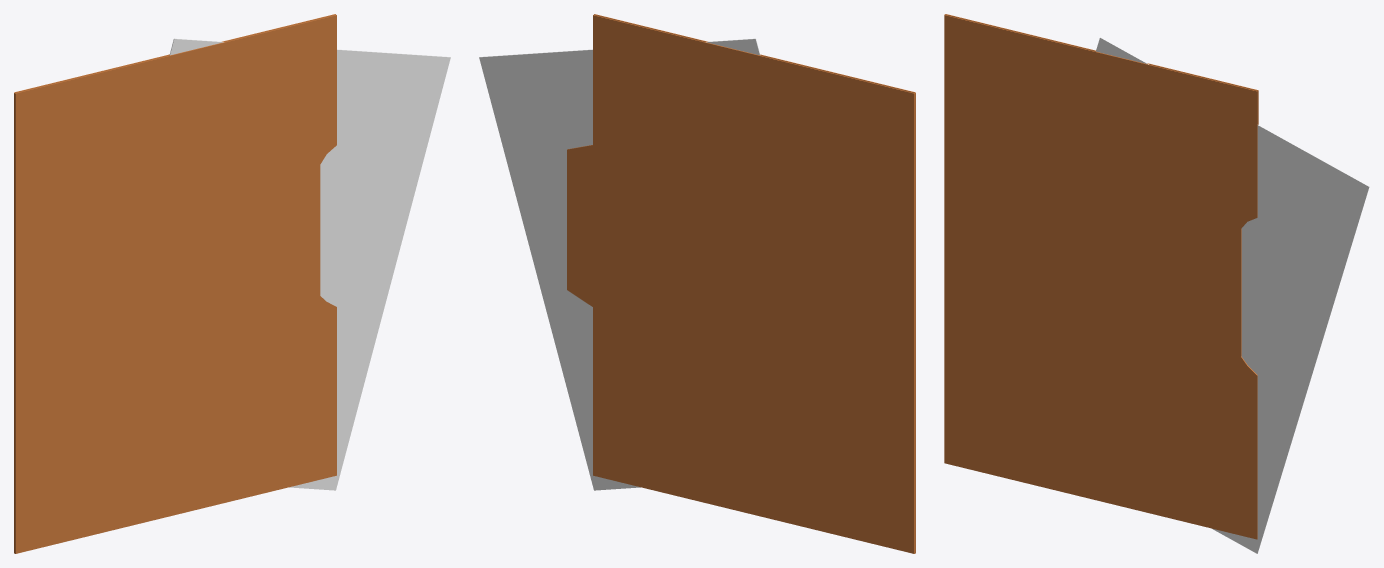
Rendered from Model_Case_File_No_Texture_Final.fbx.
3 views of the same model, side by side, from view 1: azimuth 30°, elevation 25°; view 2: azimuth 150°, elevation 25°; view 3: azimuth 330°, elevation 25° (orthographic). The views are drawn at different scales.
Visible parts, largest first — view 1: Folder, Paper; view 2: Folder, Paper; view 3: Folder, Paper.
Boxes of the visible parts, x1,y1,x2,y2 form: Folder: (14, 14, 336, 553); Paper: (169, 38, 450, 490); Folder: (567, 14, 915, 553); Paper: (479, 38, 760, 490); Folder: (944, 14, 1258, 539); Paper: (1096, 37, 1369, 553).
Size of the model in its own units: 30.25 by 32.53 by 0.2.
